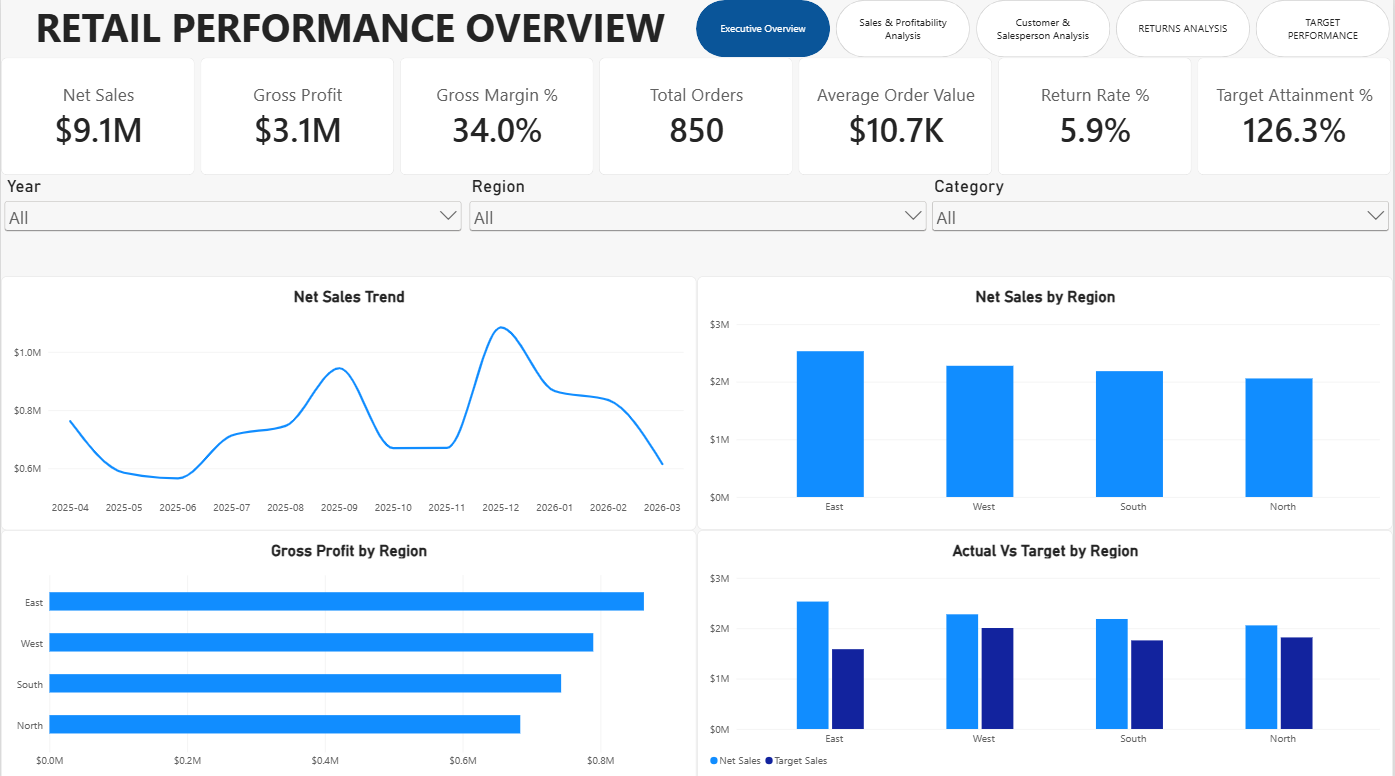

This screenshot's page, from the dashboard's own definition file:
{"tool":"powerbi","page":{"name":"Executive Overview","canvas":[1920,1080],"ordinal":0},"visuals":[{"type":"cardVisual","fields":{"Data":["Measures_table.Net Sales","Measures_table.Gross Profit","Measures_table.Gross Margin %","Measures_table.Total Orders","Measures_table.Average Order Value","Measures_table.Return Rate %","Measures_table.Target Attainment %"]},"box":[0,79.6,1920.1,162.9],"z":0},{"type":"lineChart","title":"Net Sales Trend","fields":{"Category":["DimDate.Year Month"],"Y":["Measures_table.Net Sales"]},"box":[0,381.8,959.1,350],"z":1000},{"type":"barChart","title":"Gross Profit by Region","fields":{"Category":["DimRegion.Region"],"Y":["Measures_table.Gross Profit"]},"box":[0,731.1,959.1,350],"z":2000},{"type":"clusteredColumnChart","title":"Net Sales by Region","fields":{"Category":["DimRegion.Region"],"Y":["Measures_table.Net Sales"]},"box":[960.9,381.8,959.1,349.3],"z":3000},{"type":"clusteredColumnChart","title":"Actual Vs Target by Region","fields":{"Category":["DimRegion.Region"],"Y":["Measures_table.Net Sales","Measures_table.Target Sales"]},"box":[960.9,731.1,959.1,349.3],"z":4000},{"type":"slicer","fields":{"Values":["DimDate.Year"]},"box":[0,242.5,640,139.3],"z":5000},{"type":"slicer","fields":{"Values":["DimRegion.Region"]},"box":[640.6,242.5,640,139.3],"z":6000},{"type":"slicer","fields":{"Values":["DimProduct.Category"]},"box":[1279.4,242.5,640,139.3],"z":7000},{"type":"textbox","box":[2,0,959.2,79.4],"z":8000},{"type":"pageNavigator","box":[959.2,0,961.2,79.4],"z":10000}]}

Visuals, with their boxes in screenshot pixels (x1, y1, x2, y2), scaled from the page's 1920x1080 canvas onto the 1395x776 screenshot:
cardVisual - Measures_table.Net Sales x Measures_table.Gross Profit: BBox(0, 57, 1394, 174)
"Net Sales Trend" lineChart: BBox(0, 274, 697, 526)
"Gross Profit by Region" barChart: BBox(0, 525, 697, 775)
"Net Sales by Region" clusteredColumnChart: BBox(698, 274, 1394, 525)
"Actual Vs Target by Region" clusteredColumnChart: BBox(698, 525, 1394, 775)
slicer - DimDate.Year: BBox(0, 174, 465, 274)
slicer - DimRegion.Region: BBox(465, 174, 930, 274)
slicer - DimProduct.Category: BBox(930, 174, 1394, 274)
textbox: BBox(1, 0, 698, 57)
pageNavigator: BBox(697, 0, 1394, 57)
